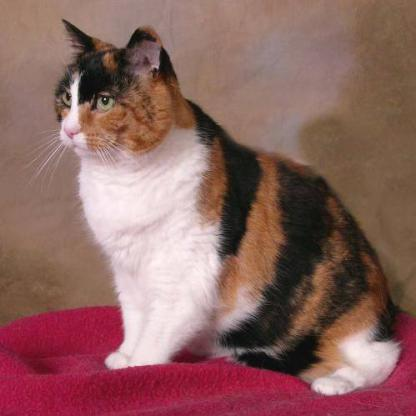cat: (44, 26, 394, 386)
